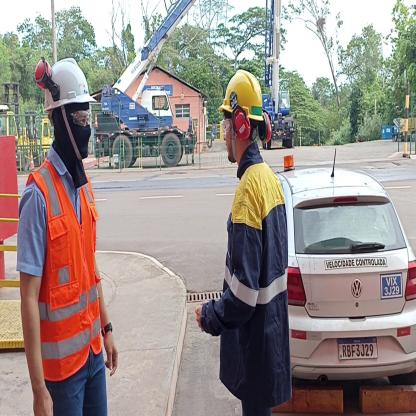Balaclava: (51, 109, 92, 173)
C_eletrica: (219, 173, 293, 401)
Capacete: (35, 55, 98, 107), (217, 66, 270, 120)
colete: (42, 181, 110, 381)
